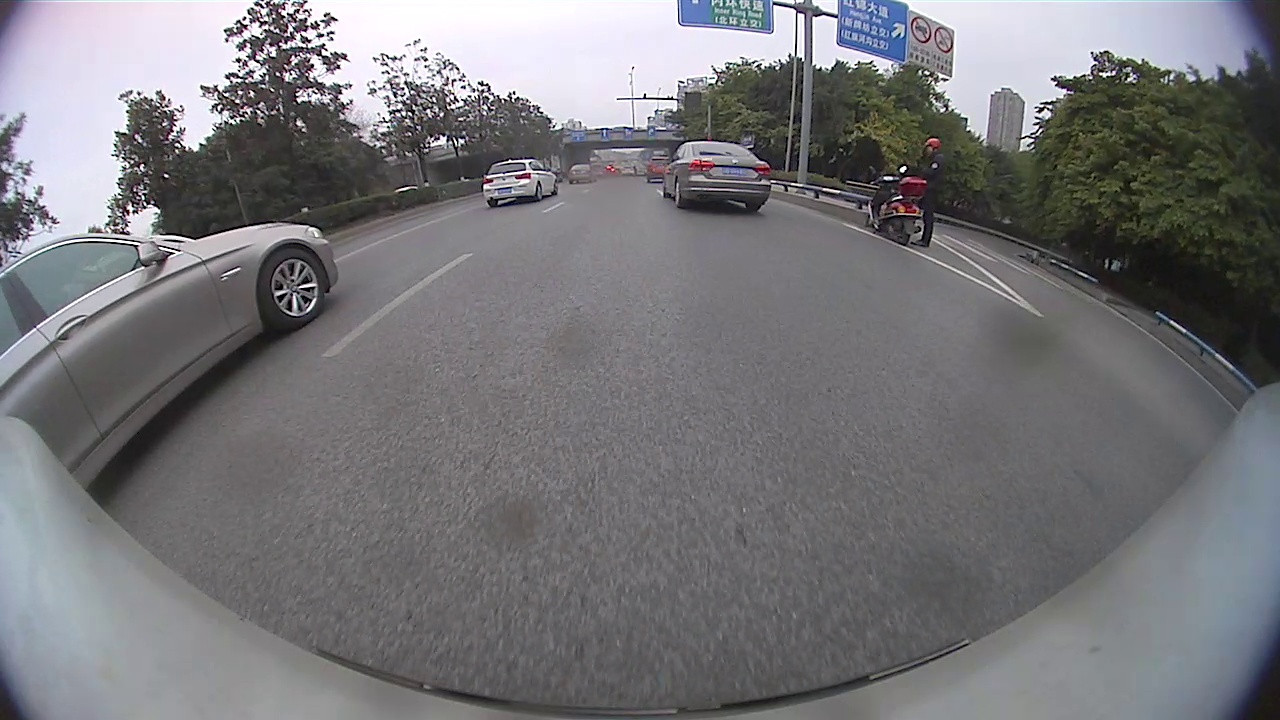car: (1, 219, 341, 490), (661, 139, 774, 216), (480, 156, 561, 211), (646, 153, 672, 183), (567, 162, 595, 183)
front: (259, 246, 330, 328)
person: (923, 136, 948, 249)
rear: (673, 178, 684, 208), (536, 184, 544, 202)
rider: (866, 161, 930, 248)
